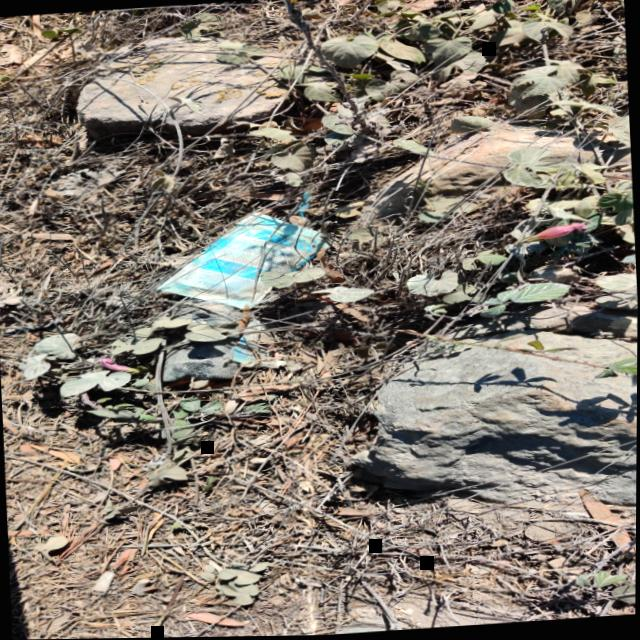Glass bottle: (161, 299, 241, 383)
Other carton: (225, 318, 301, 370)
Other plastic: (153, 210, 331, 310)
